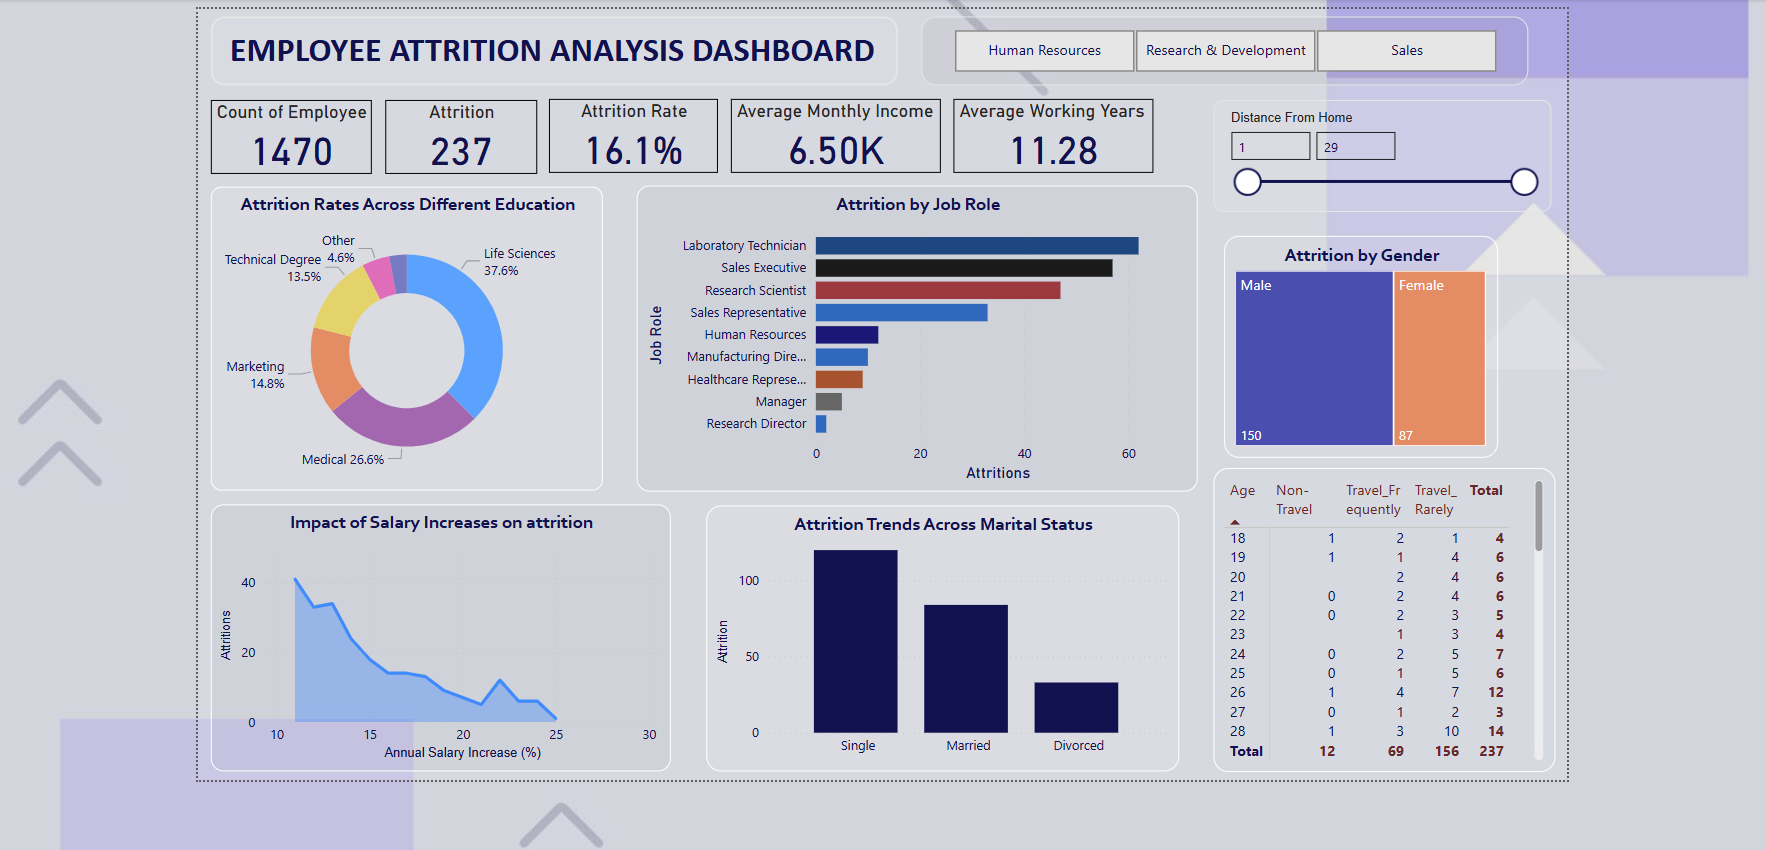

This screenshot's page, from the dashboard's own definition file:
{"tool":"powerbi","page":{"name":"Attrition","canvas":[1280,720],"ordinal":0},"visuals":[{"type":"card","title":"Count of Employee","fields":{"Values":["Sum(HR-Employee-Attrition.EmployeeCount)"]},"box":[11.9,84.6,151.2,69.1],"z":0},{"type":"card","title":"Attrition","fields":{"Values":["Sum(HR-Employee-Attrition.Attrition_True)"]},"box":[175.1,84.6,141.7,69.1],"z":1000},{"type":"card","title":"Attrition Rate","fields":{"Values":["HR-Employee-Attrition.AttritionRate"]},"box":[327.6,84.5,158.6,69],"z":2000},{"type":"card","title":"Average Monthly Income","fields":{"Values":["Avg(HR-Employee-Attrition.MonthlyIncome)"]},"box":[497.5,84.5,197.8,69],"z":3000},{"type":"card","title":"Average Working Years","fields":{"Values":["Avg(HR-Employee-Attrition.TotalWorkingYears)"]},"box":[705.6,84.5,187.5,69],"z":4000},{"type":"donutChart","title":"Attrition Rates Across Different Education","fields":{"Category":["HR-Employee-Attrition.EducationField"],"Y":["Sum(HR-Employee-Attrition.Attrition_True)"]},"box":[11.9,165.6,366.8,284.7],"z":5000},{"type":"clusteredBarChart","title":"Attrition by Job Role","fields":{"Category":["HR-Employee-Attrition.JobRole"],"Y":["Sum(HR-Employee-Attrition.Attrition_True)"]},"box":[410.2,165.3,524.9,285.2],"z":6000},{"type":"areaChart","title":"Impact of Salary Increases on attrition","fields":{"Category":["HR-Employee-Attrition.PercentSalaryHike"],"Y":["Sum(HR-Employee-Attrition.Attrition_True)"]},"box":[11.9,463.3,430,248.9],"z":7000},{"type":"columnChart","title":"Attrition Trends Across Marital Status","fields":{"Y":["Sum(HR-Employee-Attrition.Attrition_True)"],"Category":["HR-Employee-Attrition.MaritalStatus"]},"box":[475.3,464,441.2,248],"z":8000},{"type":"pivotTable","fields":{"Rows":["HR-Employee-Attrition.Age"],"Columns":["HR-Employee-Attrition.BusinessTravel"],"Values":["Sum(HR-Employee-Attrition.Attrition_True)"]},"box":[948.6,428.8,320.3,284.2],"z":9000},{"type":"treemap","title":"Attrition by Gender","fields":{"Group":["HR-Employee-Attrition.Gender"],"Values":["Sum(HR-Employee-Attrition.Attrition_True)"]},"box":[959,211.8,256.3,206.7],"z":10000},{"type":"textbox","box":[12.4,7.2,641.7,63.9],"z":11000},{"type":"slicer","title":"Attrition by Gender","fields":{"Values":["HR-Employee-Attrition.Department"]},"box":[675.7,7.2,568.6,63.9],"z":12000},{"type":"slicer","fields":{"Values":["HR-Employee-Attrition.DistanceFromHome"]},"box":[948.6,84.7,316.2,104.4],"z":13001}]}

Visuals, with their boxes on the page's 1280x720 design canvas (x1, y1, x2, y2). These are canvas units, not pixel positions in the 1766x850 screenshot, which may show the page scaled, cropped or inside an application window:
"Count of Employee" card: bbox=[12, 85, 163, 154]
"Attrition" card: bbox=[175, 85, 317, 154]
"Attrition Rate" card: bbox=[328, 84, 486, 154]
"Average Monthly Income" card: bbox=[498, 84, 695, 154]
"Average Working Years" card: bbox=[706, 84, 893, 154]
"Attrition Rates Across Different Education" donutChart: bbox=[12, 166, 379, 450]
"Attrition by Job Role" clusteredBarChart: bbox=[410, 165, 935, 450]
"Impact of Salary Increases on attrition" areaChart: bbox=[12, 463, 442, 712]
"Attrition Trends Across Marital Status" columnChart: bbox=[475, 464, 916, 712]
pivotTable - HR-Employee-Attrition.Age x HR-Employee-Attrition.BusinessTravel: bbox=[949, 429, 1269, 713]
"Attrition by Gender" treemap: bbox=[959, 212, 1215, 418]
textbox: bbox=[12, 7, 654, 71]
"Attrition by Gender" slicer: bbox=[676, 7, 1244, 71]
slicer - HR-Employee-Attrition.DistanceFromHome: bbox=[949, 85, 1265, 189]
